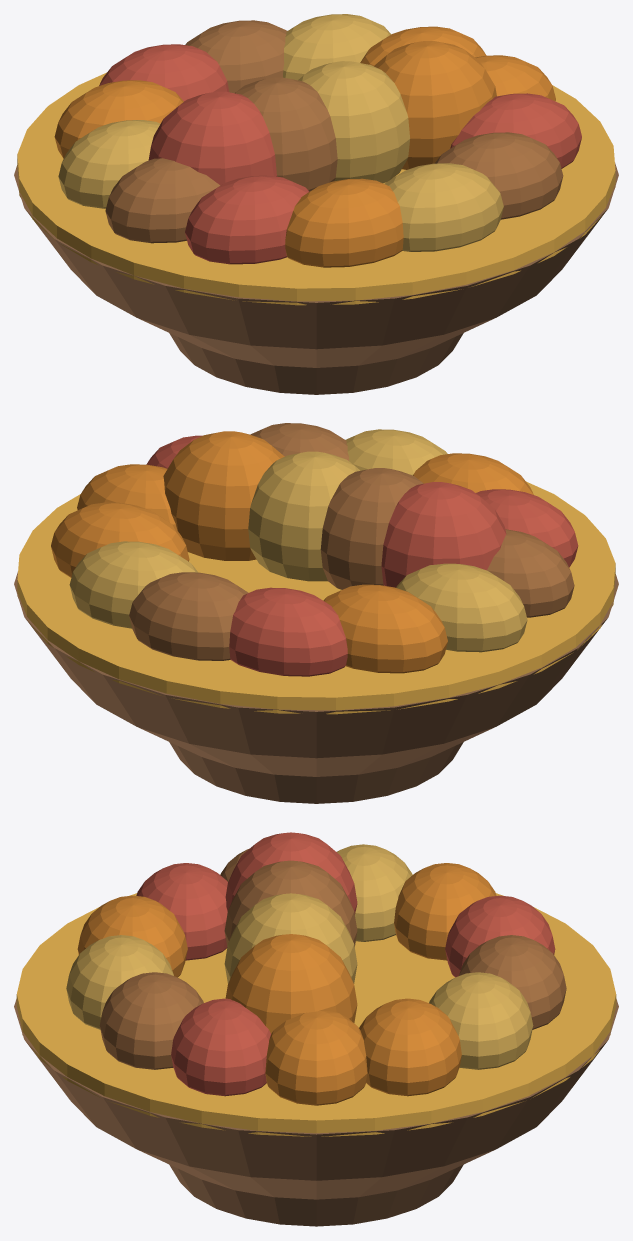
File: scendance-plan-candied-fruits.glb
3 views of the same model, one above another, from view 1: azimuth 30°, elevation 25°; view 2: azimuth 150°, elevation 25°; view 3: azimuth 270°, elevation 25° (orthographic).
Size of the model in its own units: 0.428 by 0.214 by 0.428.
